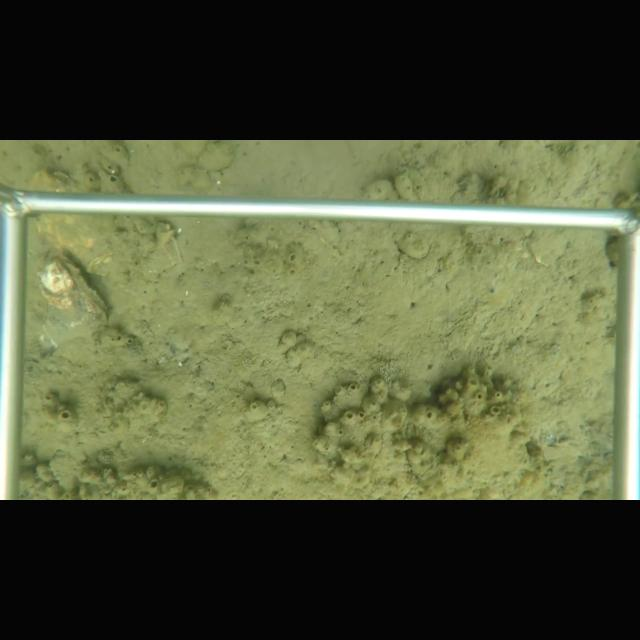Oyster-Closed: (37, 244, 110, 354)
